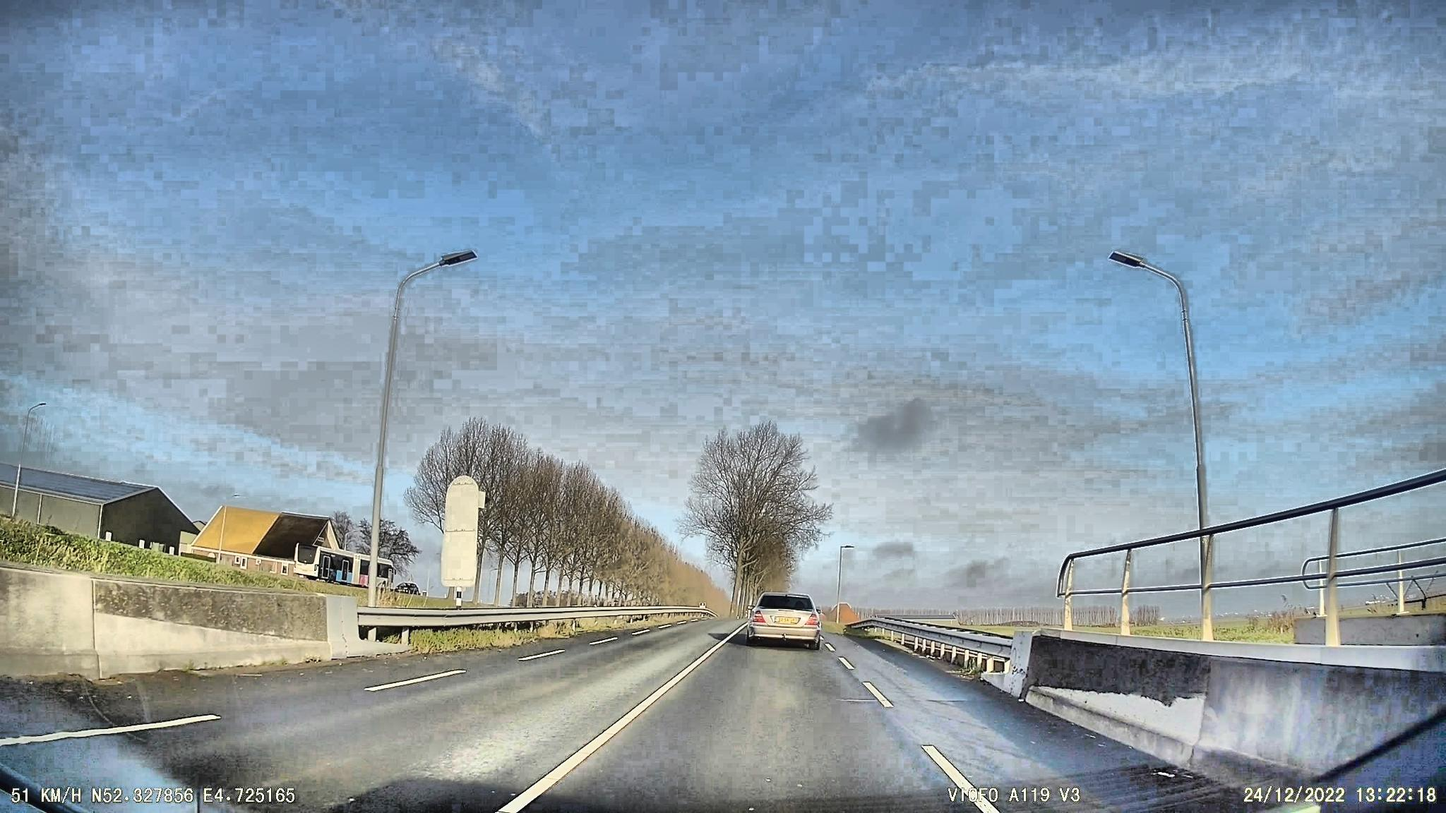Roads: (0, 623, 1273, 813)
